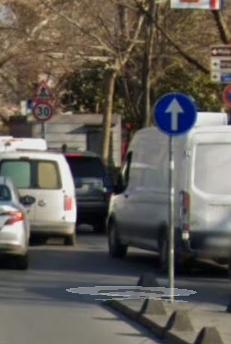forward: (158, 93, 193, 137)
